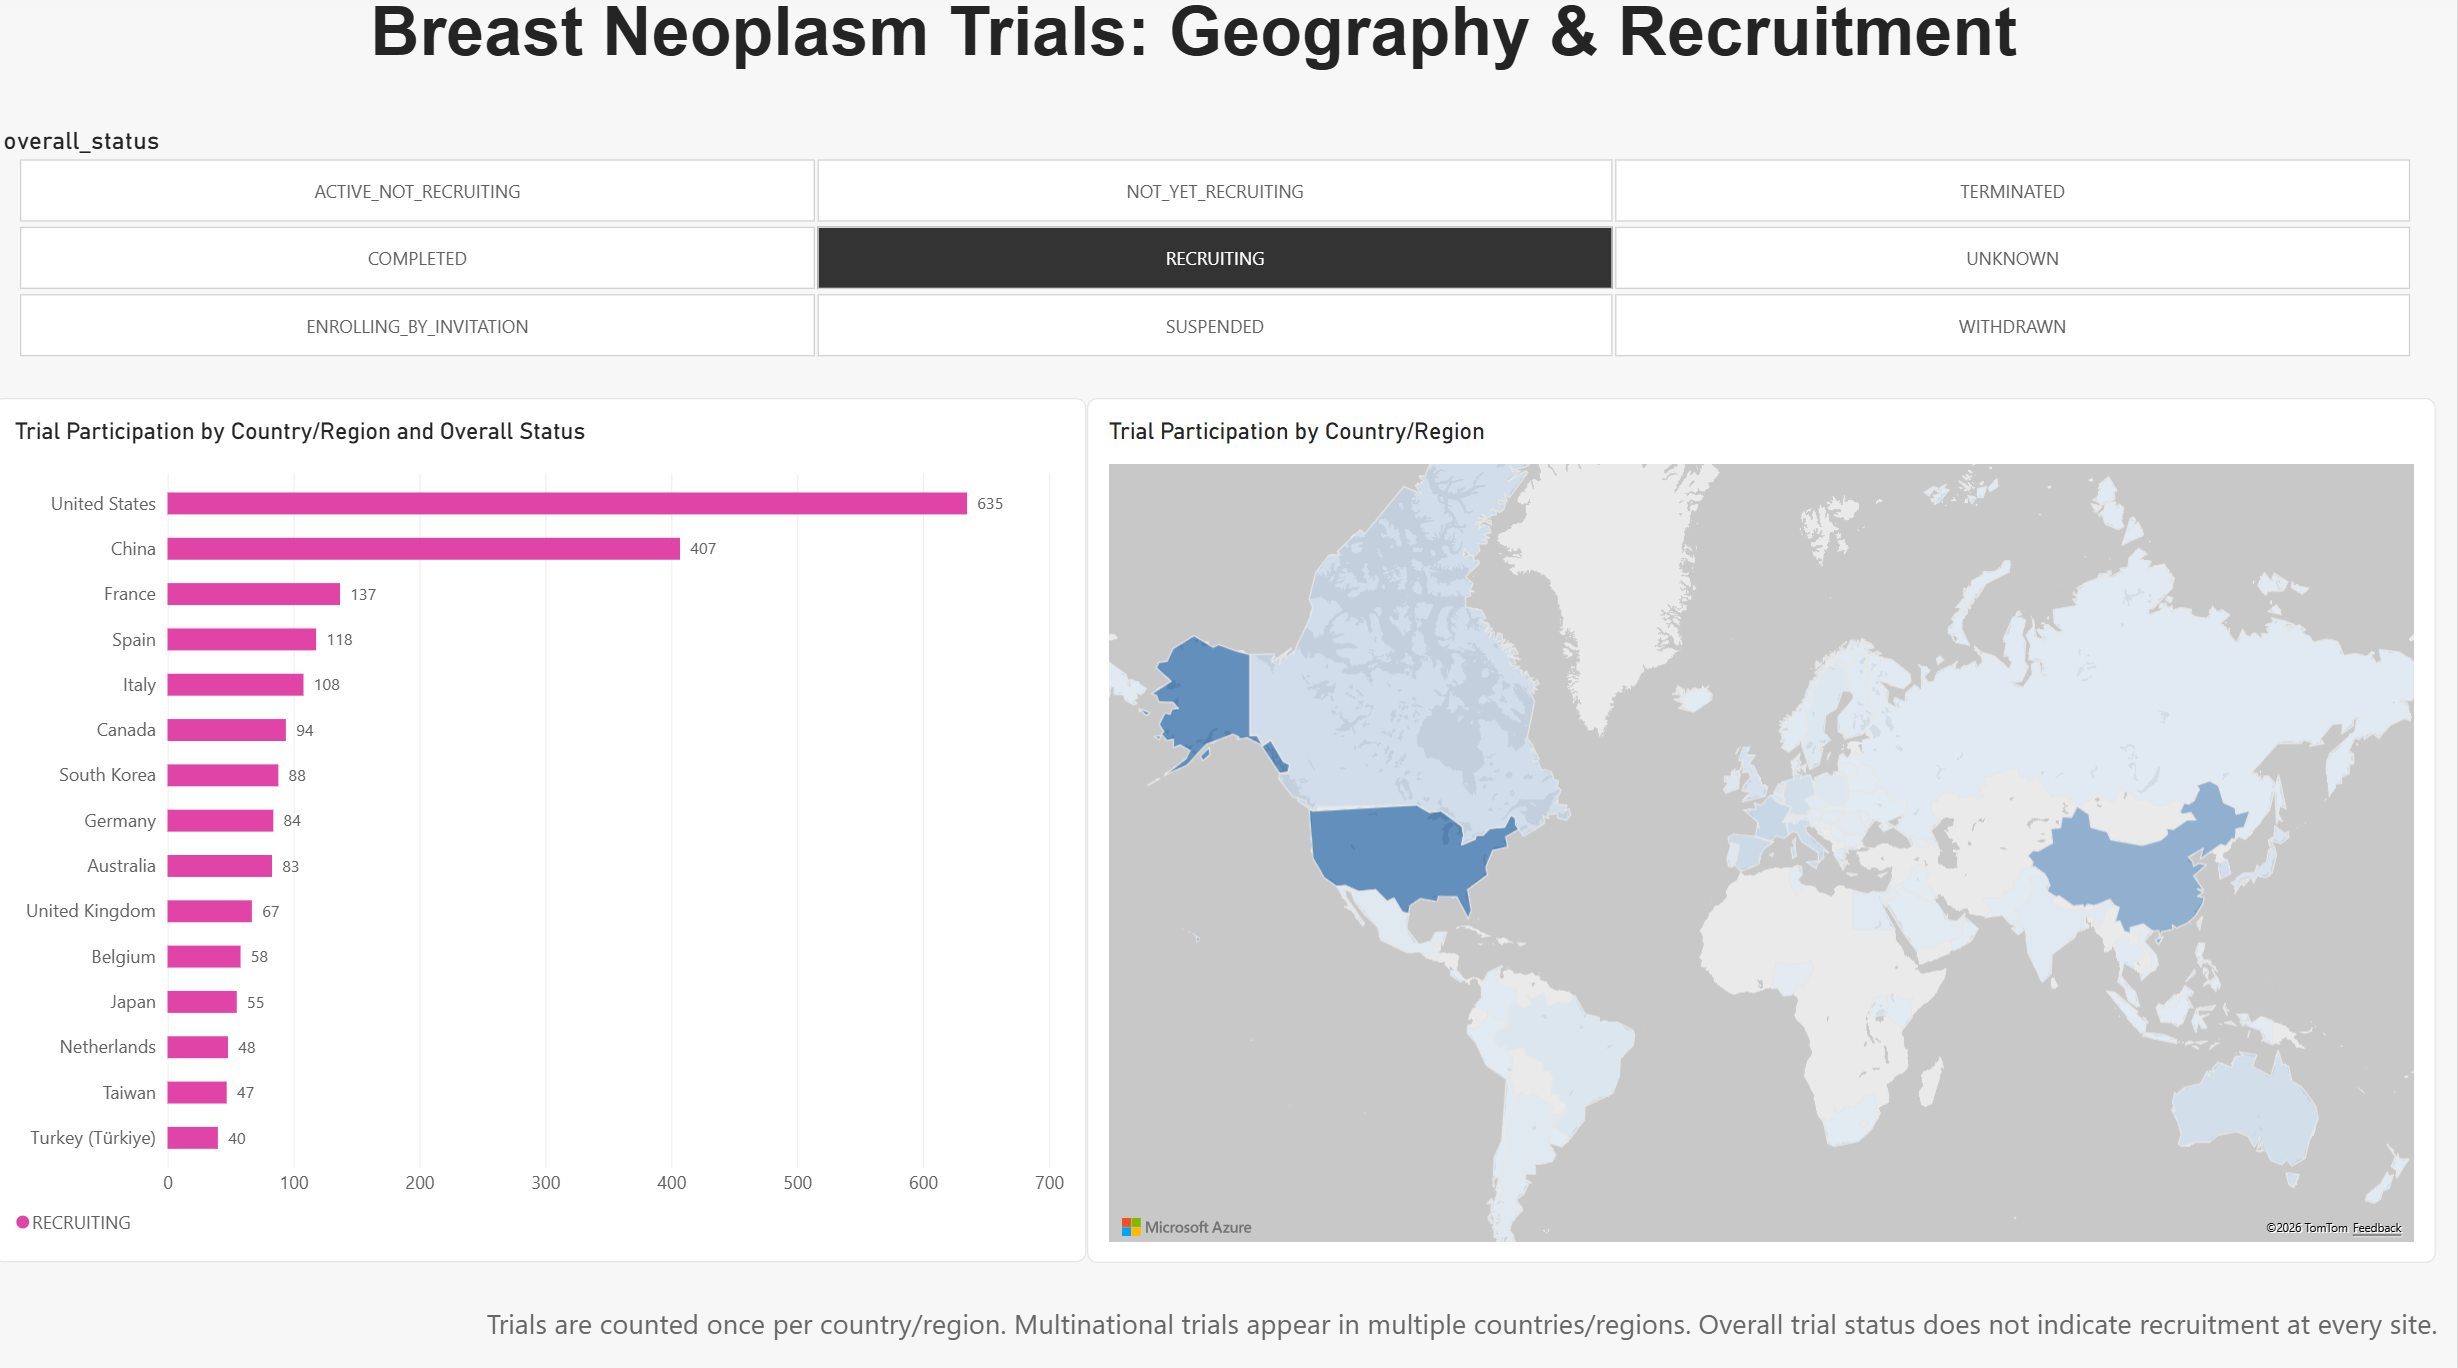

The dashboard page shown, as its layout file describes it:
{"tool":"powerbi","page":{"name":"Country & Recruitment","canvas":[1920,1080],"ordinal":1},"visuals":[{"type":"barChart","title":"Trial Participation by Country/Region and Overall Status","fields":{"Category":["agg_breast_country_status.country"],"Series":["agg_breast_country_status.overall_status"],"Y":["Sum(agg_breast_country_status.trial_count)"]},"box":[0,315.9,851.8,673.7],"z":0},{"type":"slicer","fields":{"Values":["agg_breast_country_status.overall_status"]},"box":[0,104.7,1902.5,181.5],"z":1},{"type":"textbox","box":[0,0,1871.1,104.7],"z":2},{"type":"azureMap","title":"Trial Participation by Country/Region","fields":{"Category":["agg_breast_country_status.country"],"Y":["Sum(agg_breast_country_status.trial_count)"]},"box":[852,316,1051,674],"z":3},{"type":"textbox","box":[0,1022,1904.8,65.2],"z":4}]}

Visuals, with their boxes in screenshot pixels (x1, y1, x2, y2), scaled from the page's 1920x1080 canvas onto the 2458x1368 screenshot:
"Trial Participation by Country/Region and Overall Status" barChart: crop(0, 400, 1090, 1253)
slicer - agg_breast_country_status.overall_status: crop(0, 133, 2436, 363)
textbox: crop(0, 0, 2395, 133)
"Trial Participation by Country/Region" azureMap: crop(1091, 400, 2436, 1254)
textbox: crop(0, 1295, 2439, 1367)
